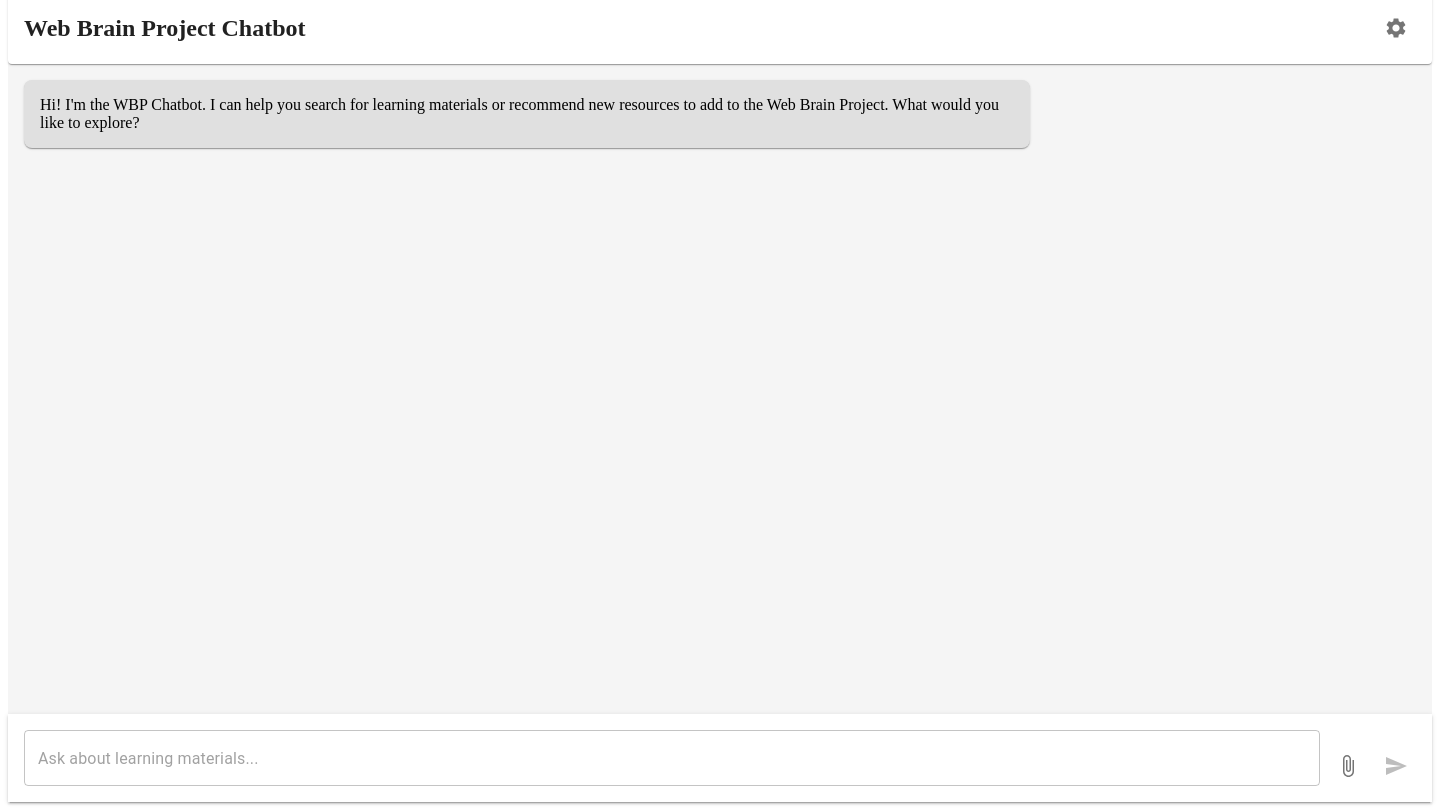
Scenario: RAGChatbot › shows settings dialog when settings button clicked
(page scrolled)
What coordinates should you click on to do the following:
click the button named "settings"
I would click on:
 (1396, 28)
Its box is [1376, 8, 1416, 48].
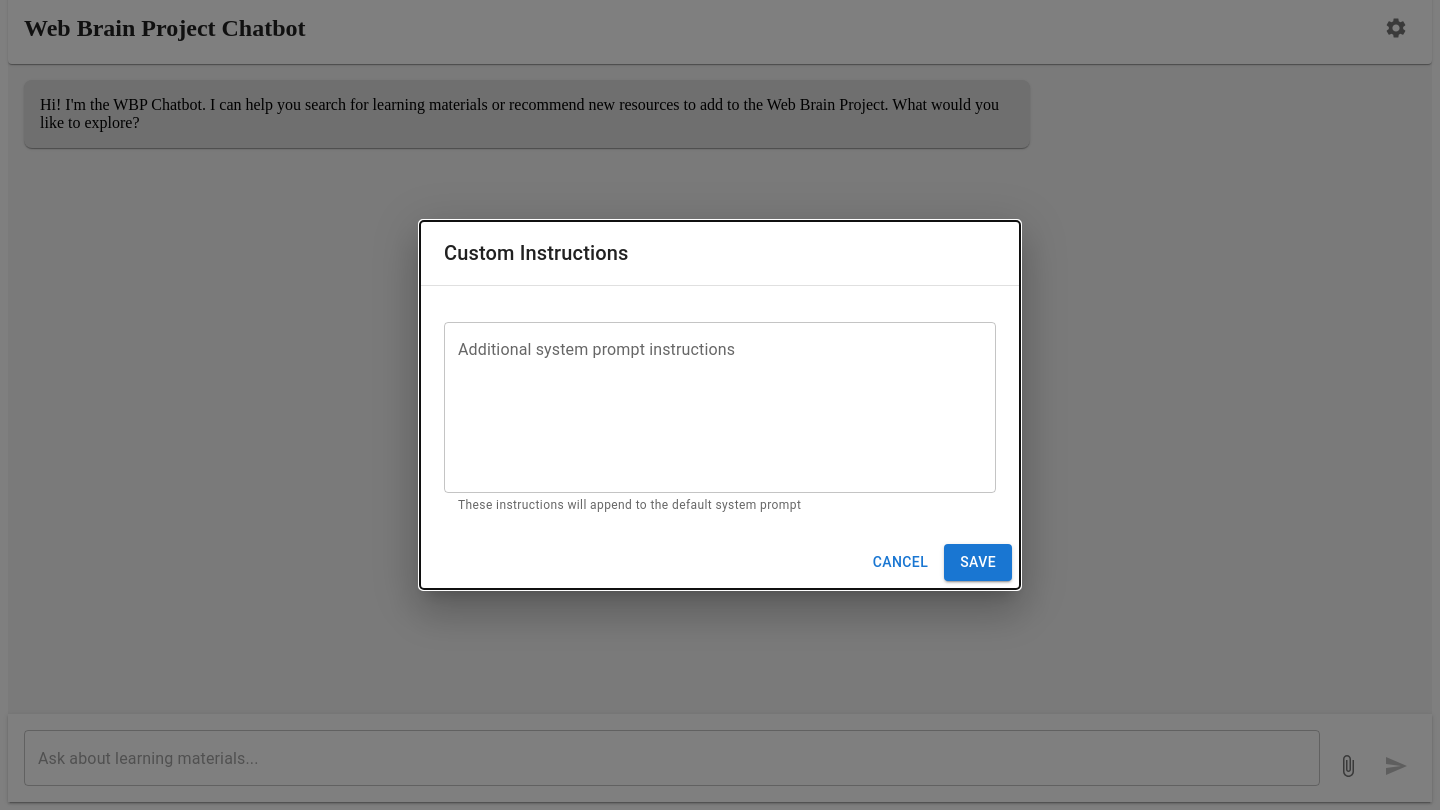
expect the heading "Custom Instructions" is shown: met, box [444, 241, 628, 265]
